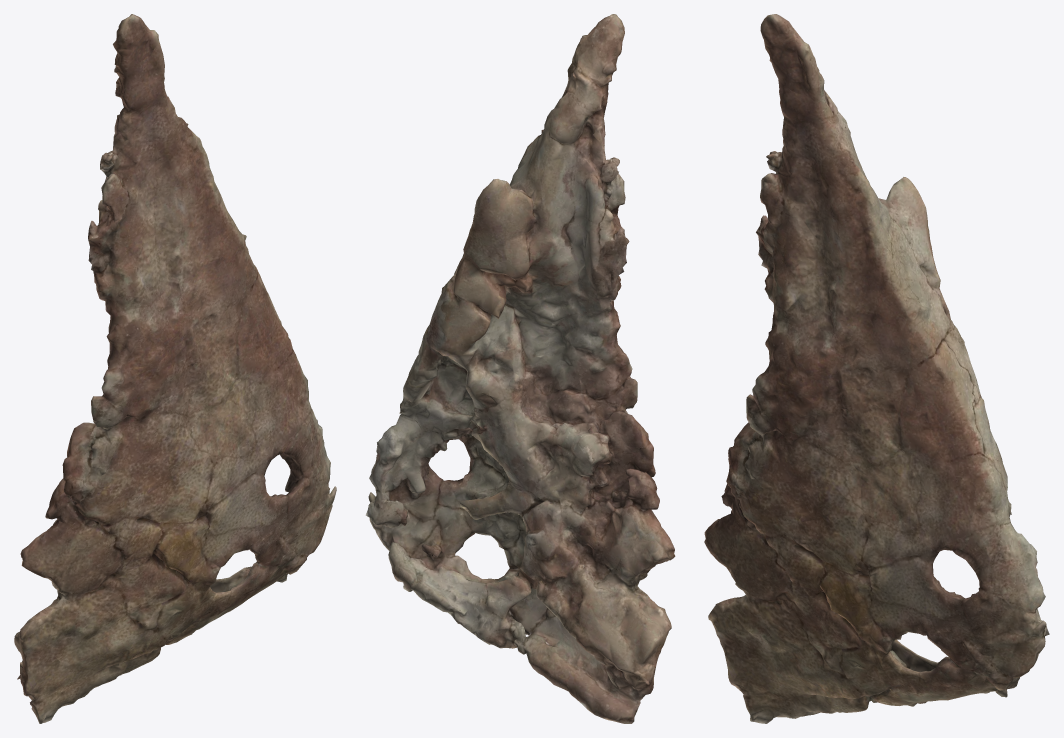
The model's file is diplocaulus.glb.
3 renders of one model, left to right at view 1: azimuth 30°, elevation 25°; view 2: azimuth 150°, elevation 25°; view 3: azimuth 330°, elevation 25°, orthographic. The views are drawn at different scales.
Parts seen in each view (by area): view 1: Diplocaulus_magnicornis-unwrapped-webmulti; view 2: Diplocaulus_magnicornis-unwrapped-webmulti; view 3: Diplocaulus_magnicornis-unwrapped-webmulti.
Part boxes in pixels (box(x1,y1,x2,y2)): Diplocaulus_magnicornis-unwrapped-webmulti: box(14, 14, 336, 723); Diplocaulus_magnicornis-unwrapped-webmulti: box(365, 14, 675, 723); Diplocaulus_magnicornis-unwrapped-webmulti: box(704, 14, 1049, 723).
Bounding box in the file's own units: 0.1561 × 0.335 × 0.0401.
Materials: 1 (1 with a texture image).
